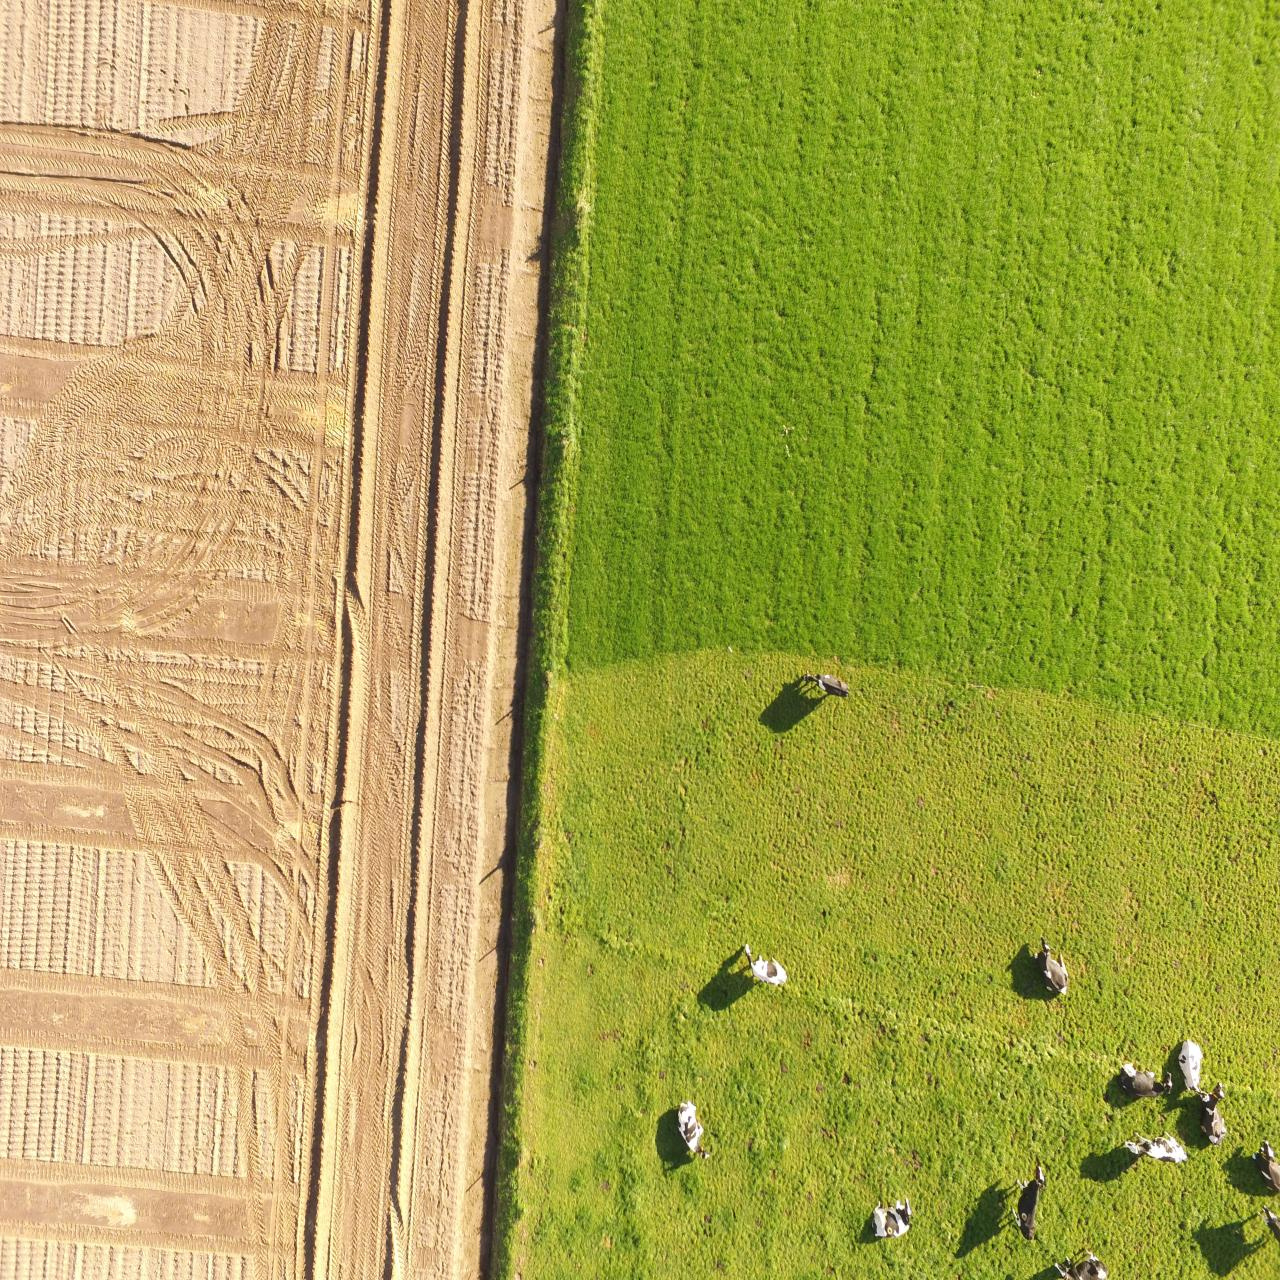cow: (1116, 1126, 1192, 1170), (672, 1096, 713, 1163), (1010, 1164, 1043, 1245), (1032, 937, 1070, 999), (1117, 1060, 1172, 1097), (1198, 1080, 1227, 1148), (866, 1196, 914, 1235), (1173, 1035, 1205, 1095), (742, 942, 788, 983), (1251, 1136, 1275, 1197), (804, 670, 850, 699)
